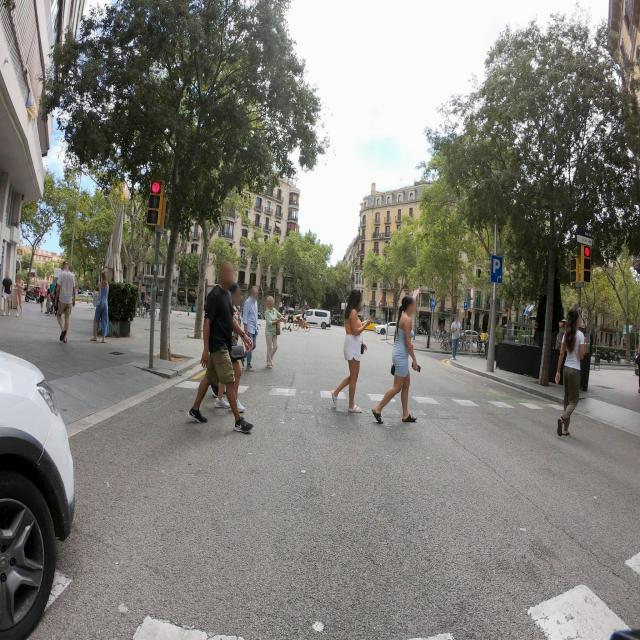car: (0, 261, 76, 640), (300, 308, 331, 330), (375, 320, 398, 335), (363, 318, 383, 332), (332, 314, 345, 326)
